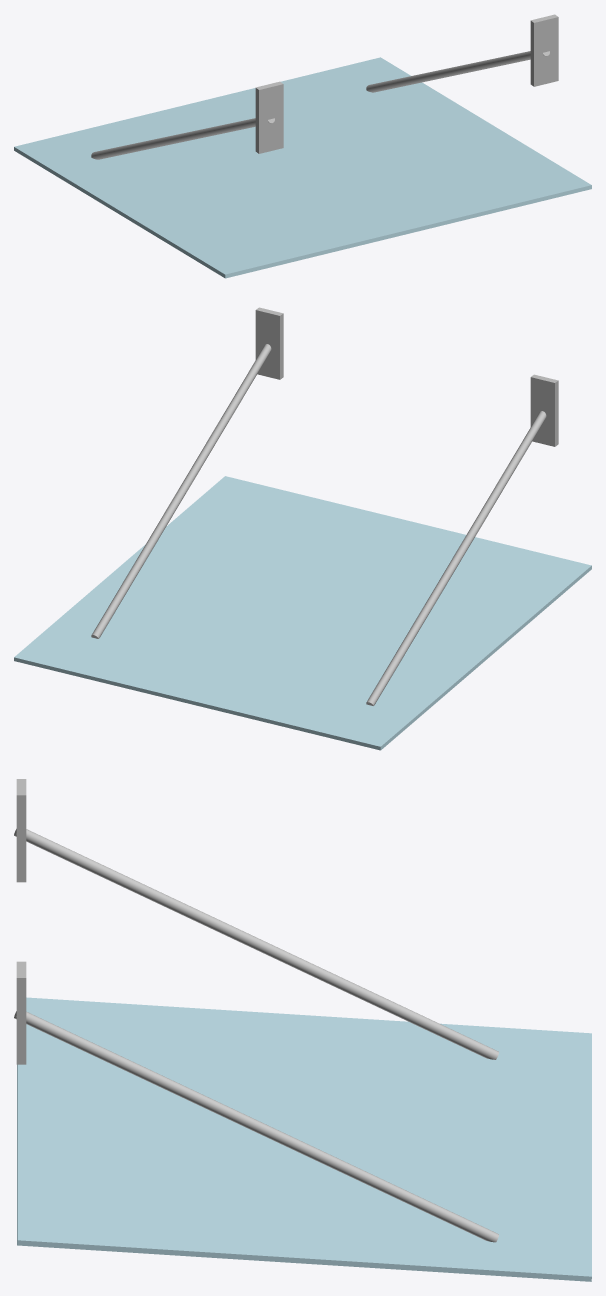
File: opening.extra.canopy.glb
3 views of the same model, one above another, from view 1: azimuth 30°, elevation 25°; view 2: azimuth 150°, elevation 25°; view 3: azimuth 270°, elevation 25° (orthographic). The views are drawn at different scales.
Visible parts, largest first — view 1: main__glass, main__steel_stainless; view 2: main__glass, main__steel_stainless; view 3: main__glass, main__steel_stainless.
Part boxes in pixels (x1,y1,x2,y2): main__glass: (14,57,591,278); main__steel_stainless: (91,14,558,159); main__glass: (14,476,591,750); main__steel_stainless: (91,307,558,705); main__glass: (17,997,591,1281); main__steel_stainless: (14,779,498,1242).
Size of the model in its own units: 1.2 by 0.6478 by 1.2.
